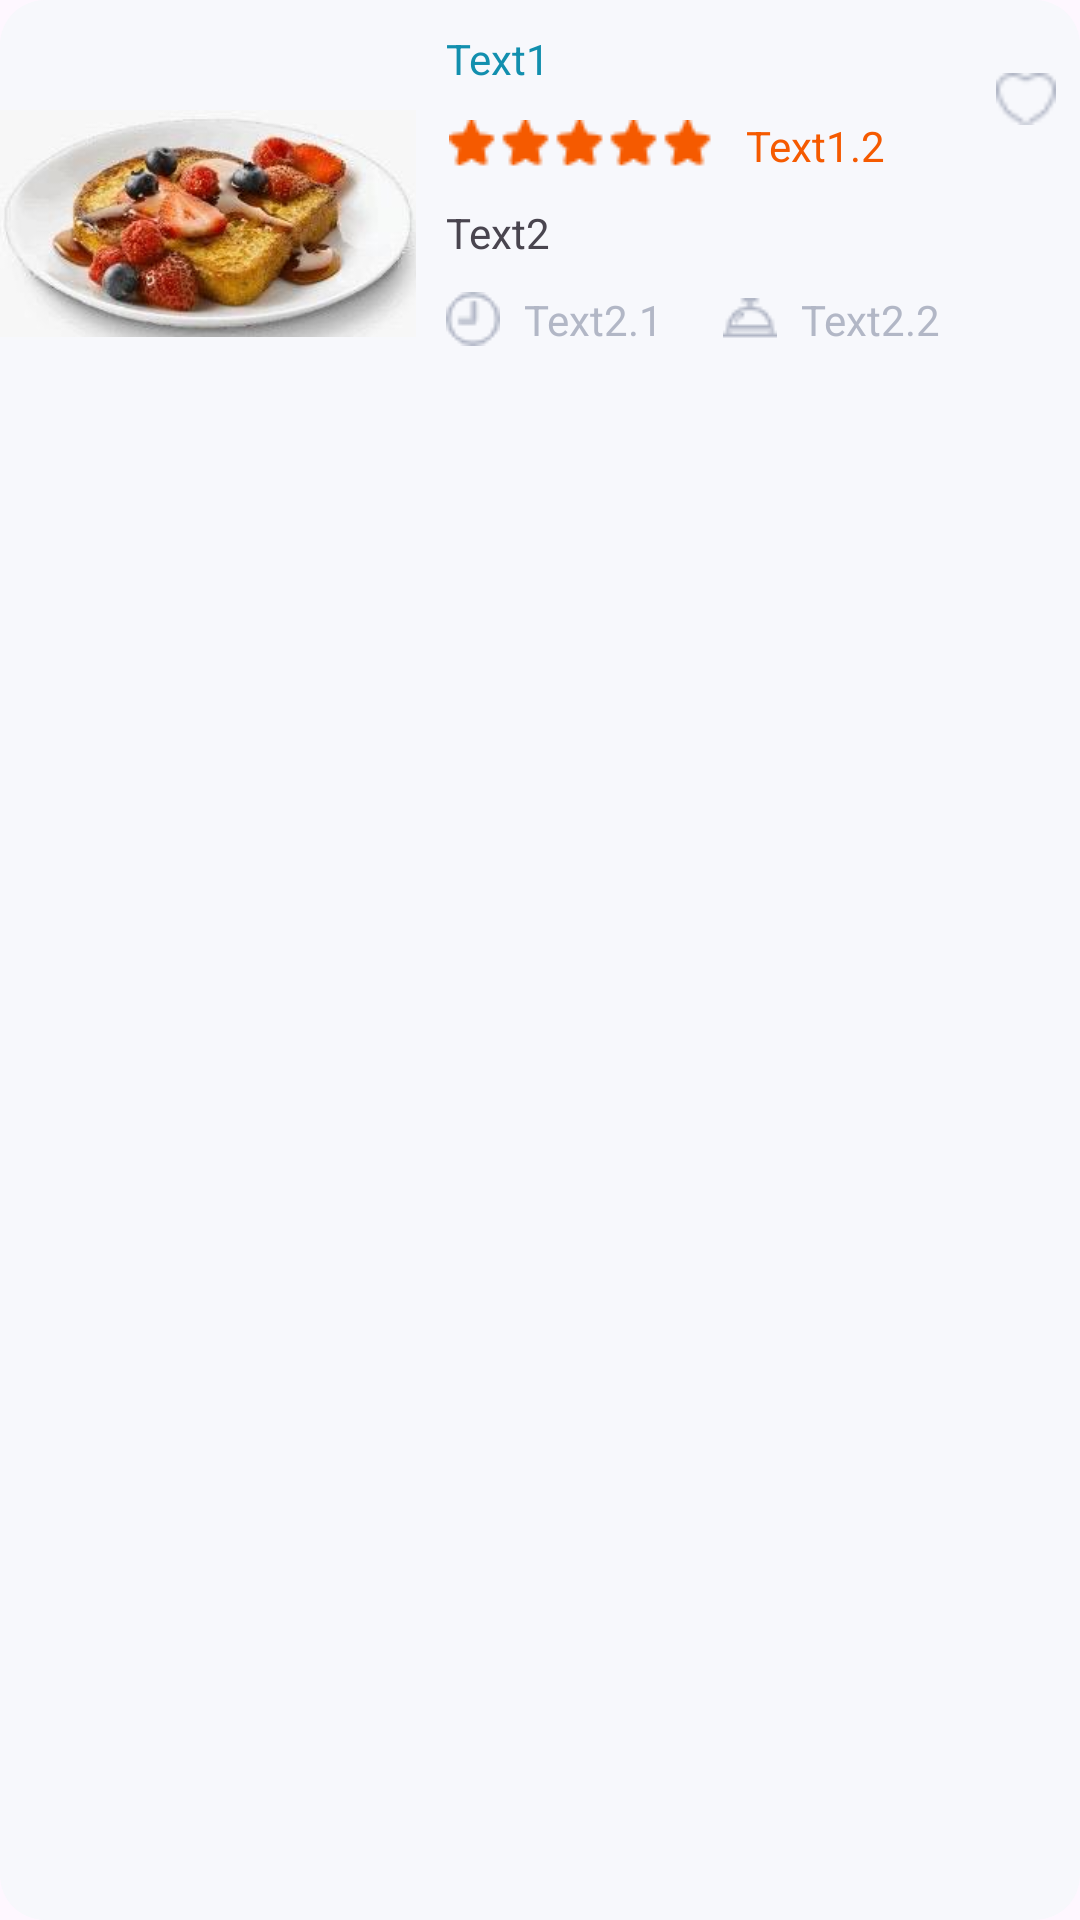

Icons on this 1080px x 1920px Android screen, each with the point to tap as [x,y]:
like: [1026,99]
ratings: [580,143]
